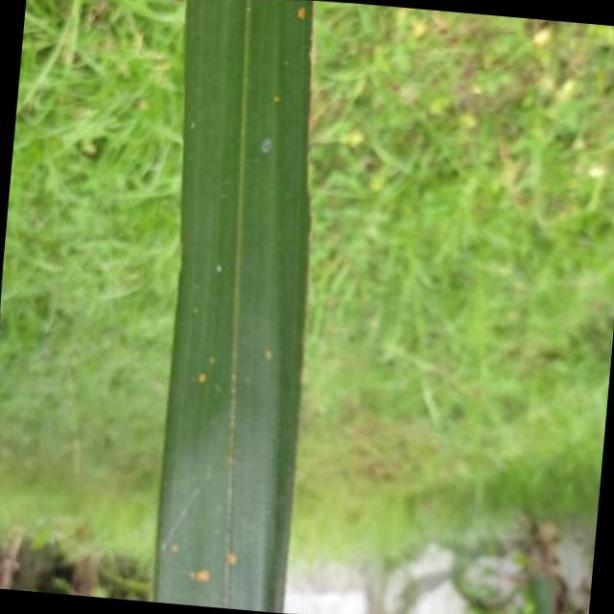Kalium: (153, 0, 320, 614)
